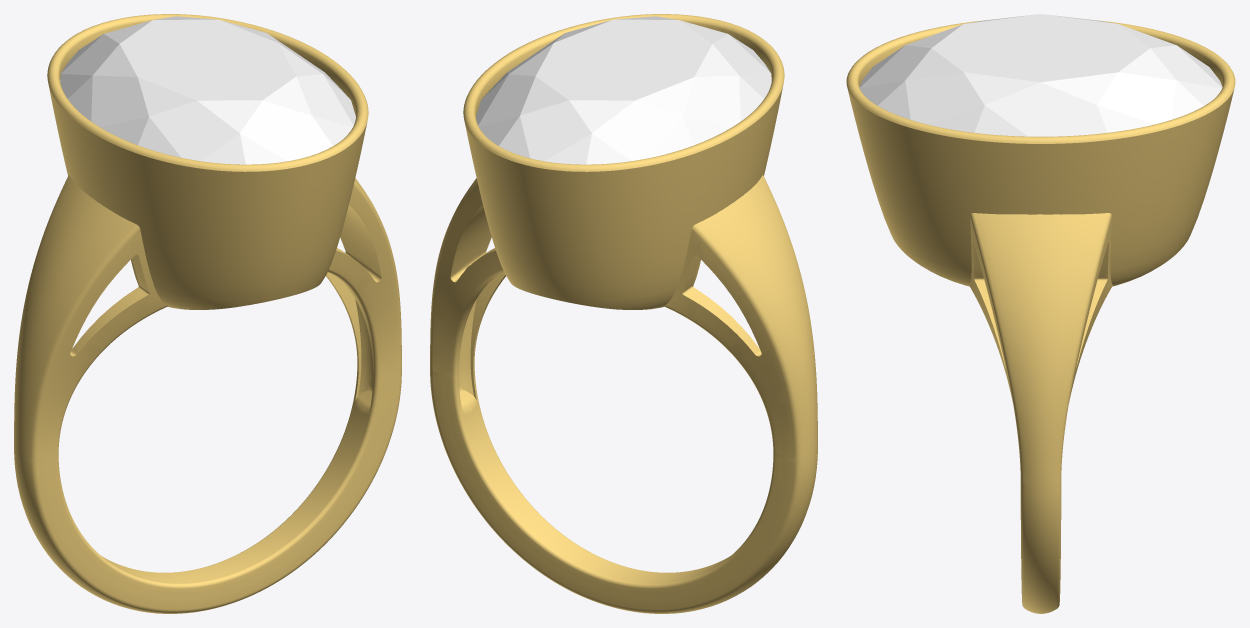
Rendered from AthenaYG2_webgi.glb.
The picture shows the model from 3 angles, left to right: view 1: azimuth 30°, elevation 25°; view 2: azimuth 150°, elevation 25°; view 3: azimuth 270°, elevation 25°; orthographic projection.
Visible parts, largest first — view 1: Athena_YG_full_bezel_for_3d_model, Athena_citrine_for_3d_model; view 2: Athena_YG_full_bezel_for_3d_model, Athena_citrine_for_3d_model; view 3: Athena_YG_full_bezel_for_3d_model, Athena_citrine_for_3d_model.
Part boxes in pixels (x1,y1,x2,y2): Athena_YG_full_bezel_for_3d_model: (14, 14, 401, 613); Athena_citrine_for_3d_model: (60, 16, 355, 164); Athena_YG_full_bezel_for_3d_model: (430, 14, 817, 613); Athena_citrine_for_3d_model: (476, 16, 771, 164); Athena_YG_full_bezel_for_3d_model: (846, 20, 1235, 613); Athena_citrine_for_3d_model: (859, 14, 1222, 136).
Size of the model in its own units: 2.08 by 2.87 by 1.85.
